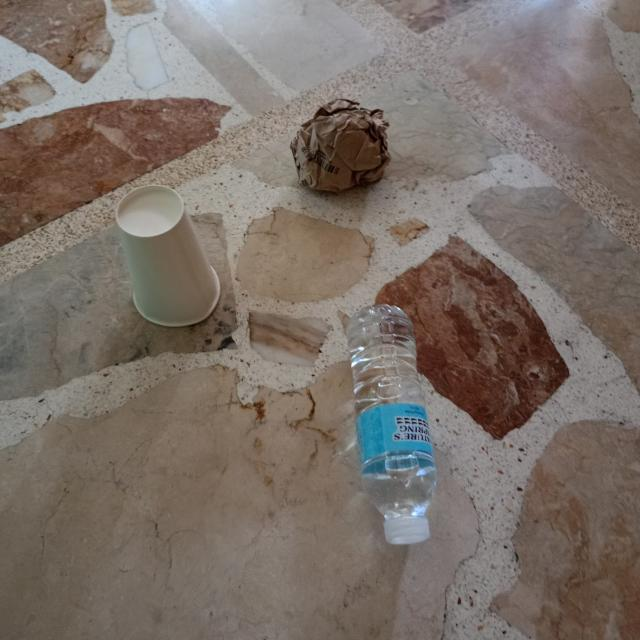recyclable waste: (334, 293, 460, 555), (98, 176, 235, 337), (274, 93, 398, 206)
